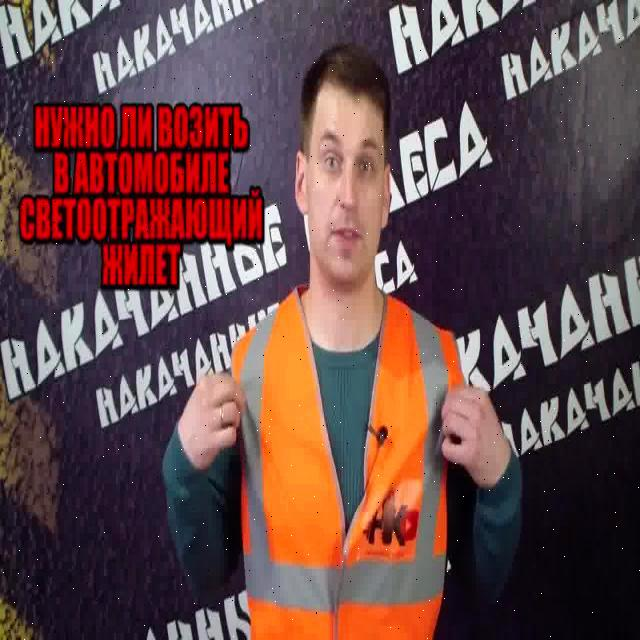Person: (177, 46, 524, 640)
Vest: (239, 292, 441, 640)
